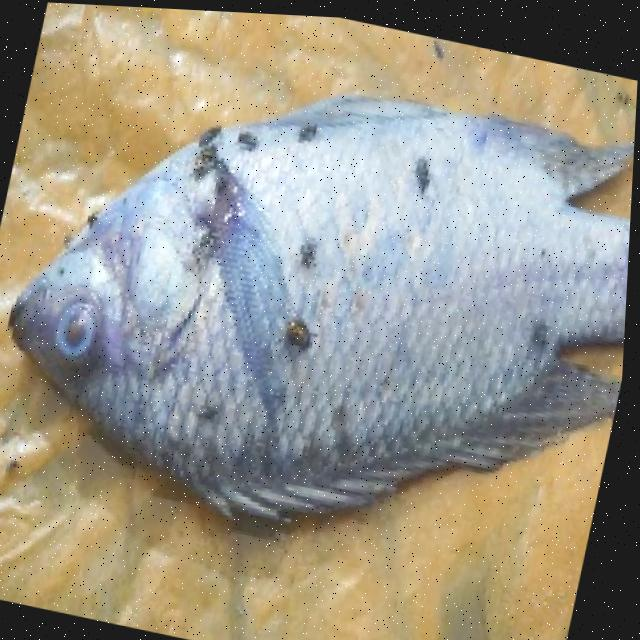Non-Fresh: (92, 114, 564, 500), (39, 280, 123, 374)
